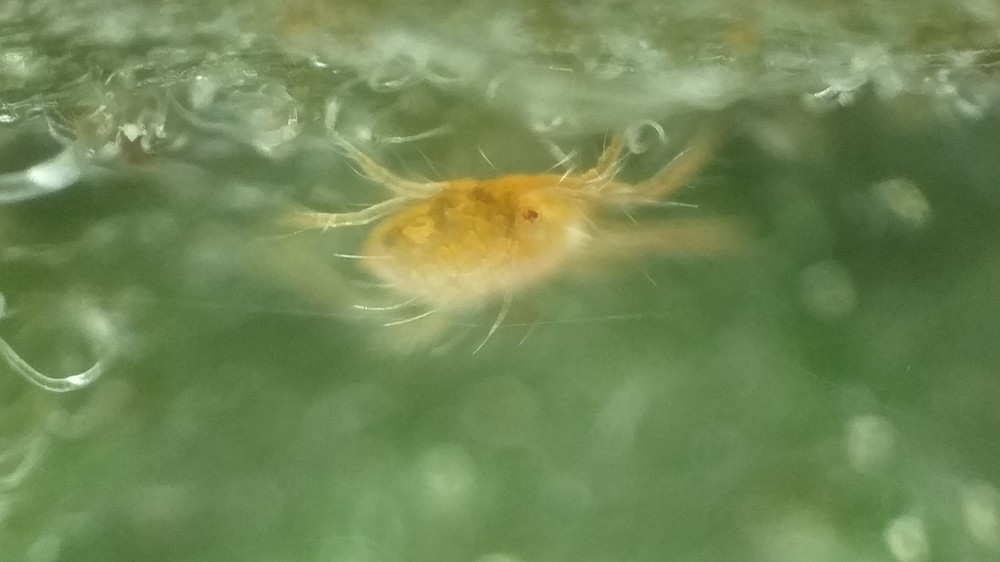Aracnido Rojo: (263, 92, 779, 370)
